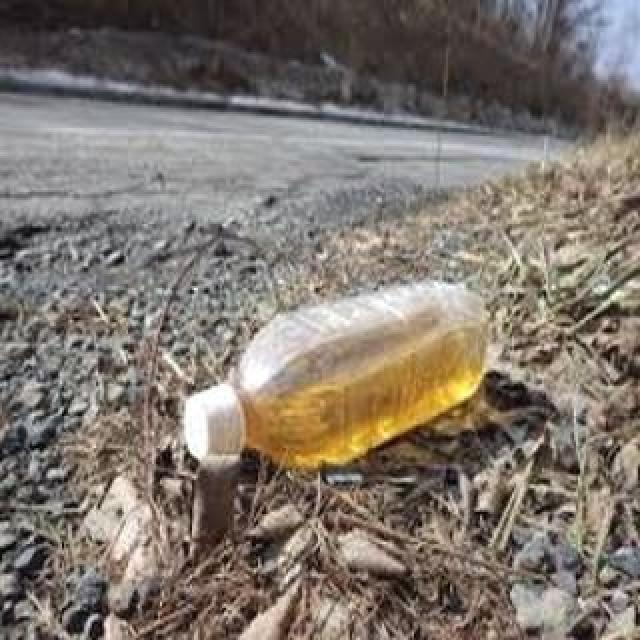Pet_Bottle: (180, 274, 492, 476)
